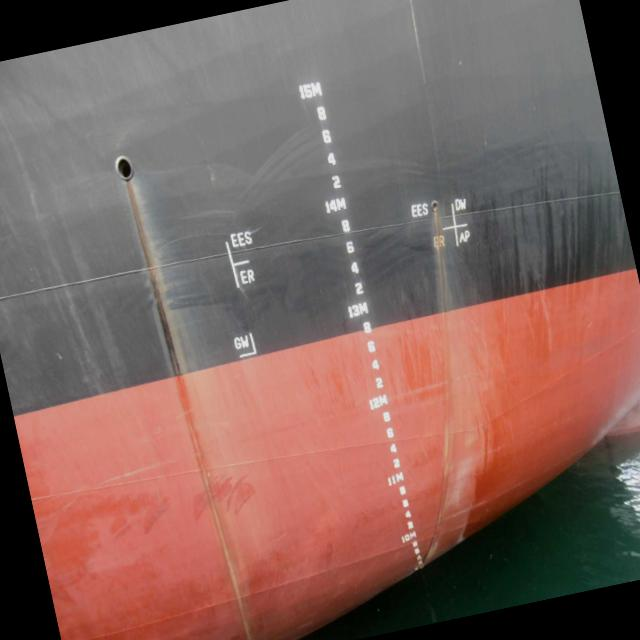Ship Draft Marks: (310, 80, 322, 98), (302, 82, 313, 99), (335, 196, 347, 211), (331, 174, 342, 189), (316, 105, 326, 121), (322, 128, 332, 144), (326, 152, 336, 166), (328, 198, 338, 212), (340, 218, 350, 232), (354, 282, 364, 296), (358, 300, 368, 314), (362, 320, 372, 334), (345, 240, 355, 253), (366, 340, 376, 353), (374, 376, 384, 389), (298, 84, 306, 100), (350, 260, 359, 274), (350, 304, 360, 316), (378, 394, 388, 406), (371, 358, 380, 370), (346, 305, 354, 318), (395, 471, 404, 482), (372, 396, 380, 408), (382, 411, 390, 422), (386, 427, 394, 438), (392, 457, 400, 468), (324, 200, 330, 214), (389, 443, 397, 453), (398, 485, 406, 495), (401, 498, 409, 508), (368, 398, 374, 411), (404, 510, 412, 518), (406, 520, 414, 528), (408, 530, 416, 538), (404, 533, 411, 541), (387, 476, 392, 486), (391, 475, 395, 484), (400, 536, 404, 542)
